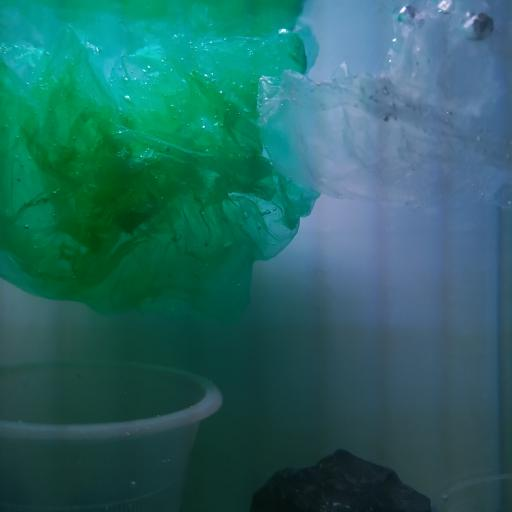plastic_bag: (0, 0, 319, 322), (256, 5, 512, 211)
plastic_cup: (0, 356, 223, 512)
